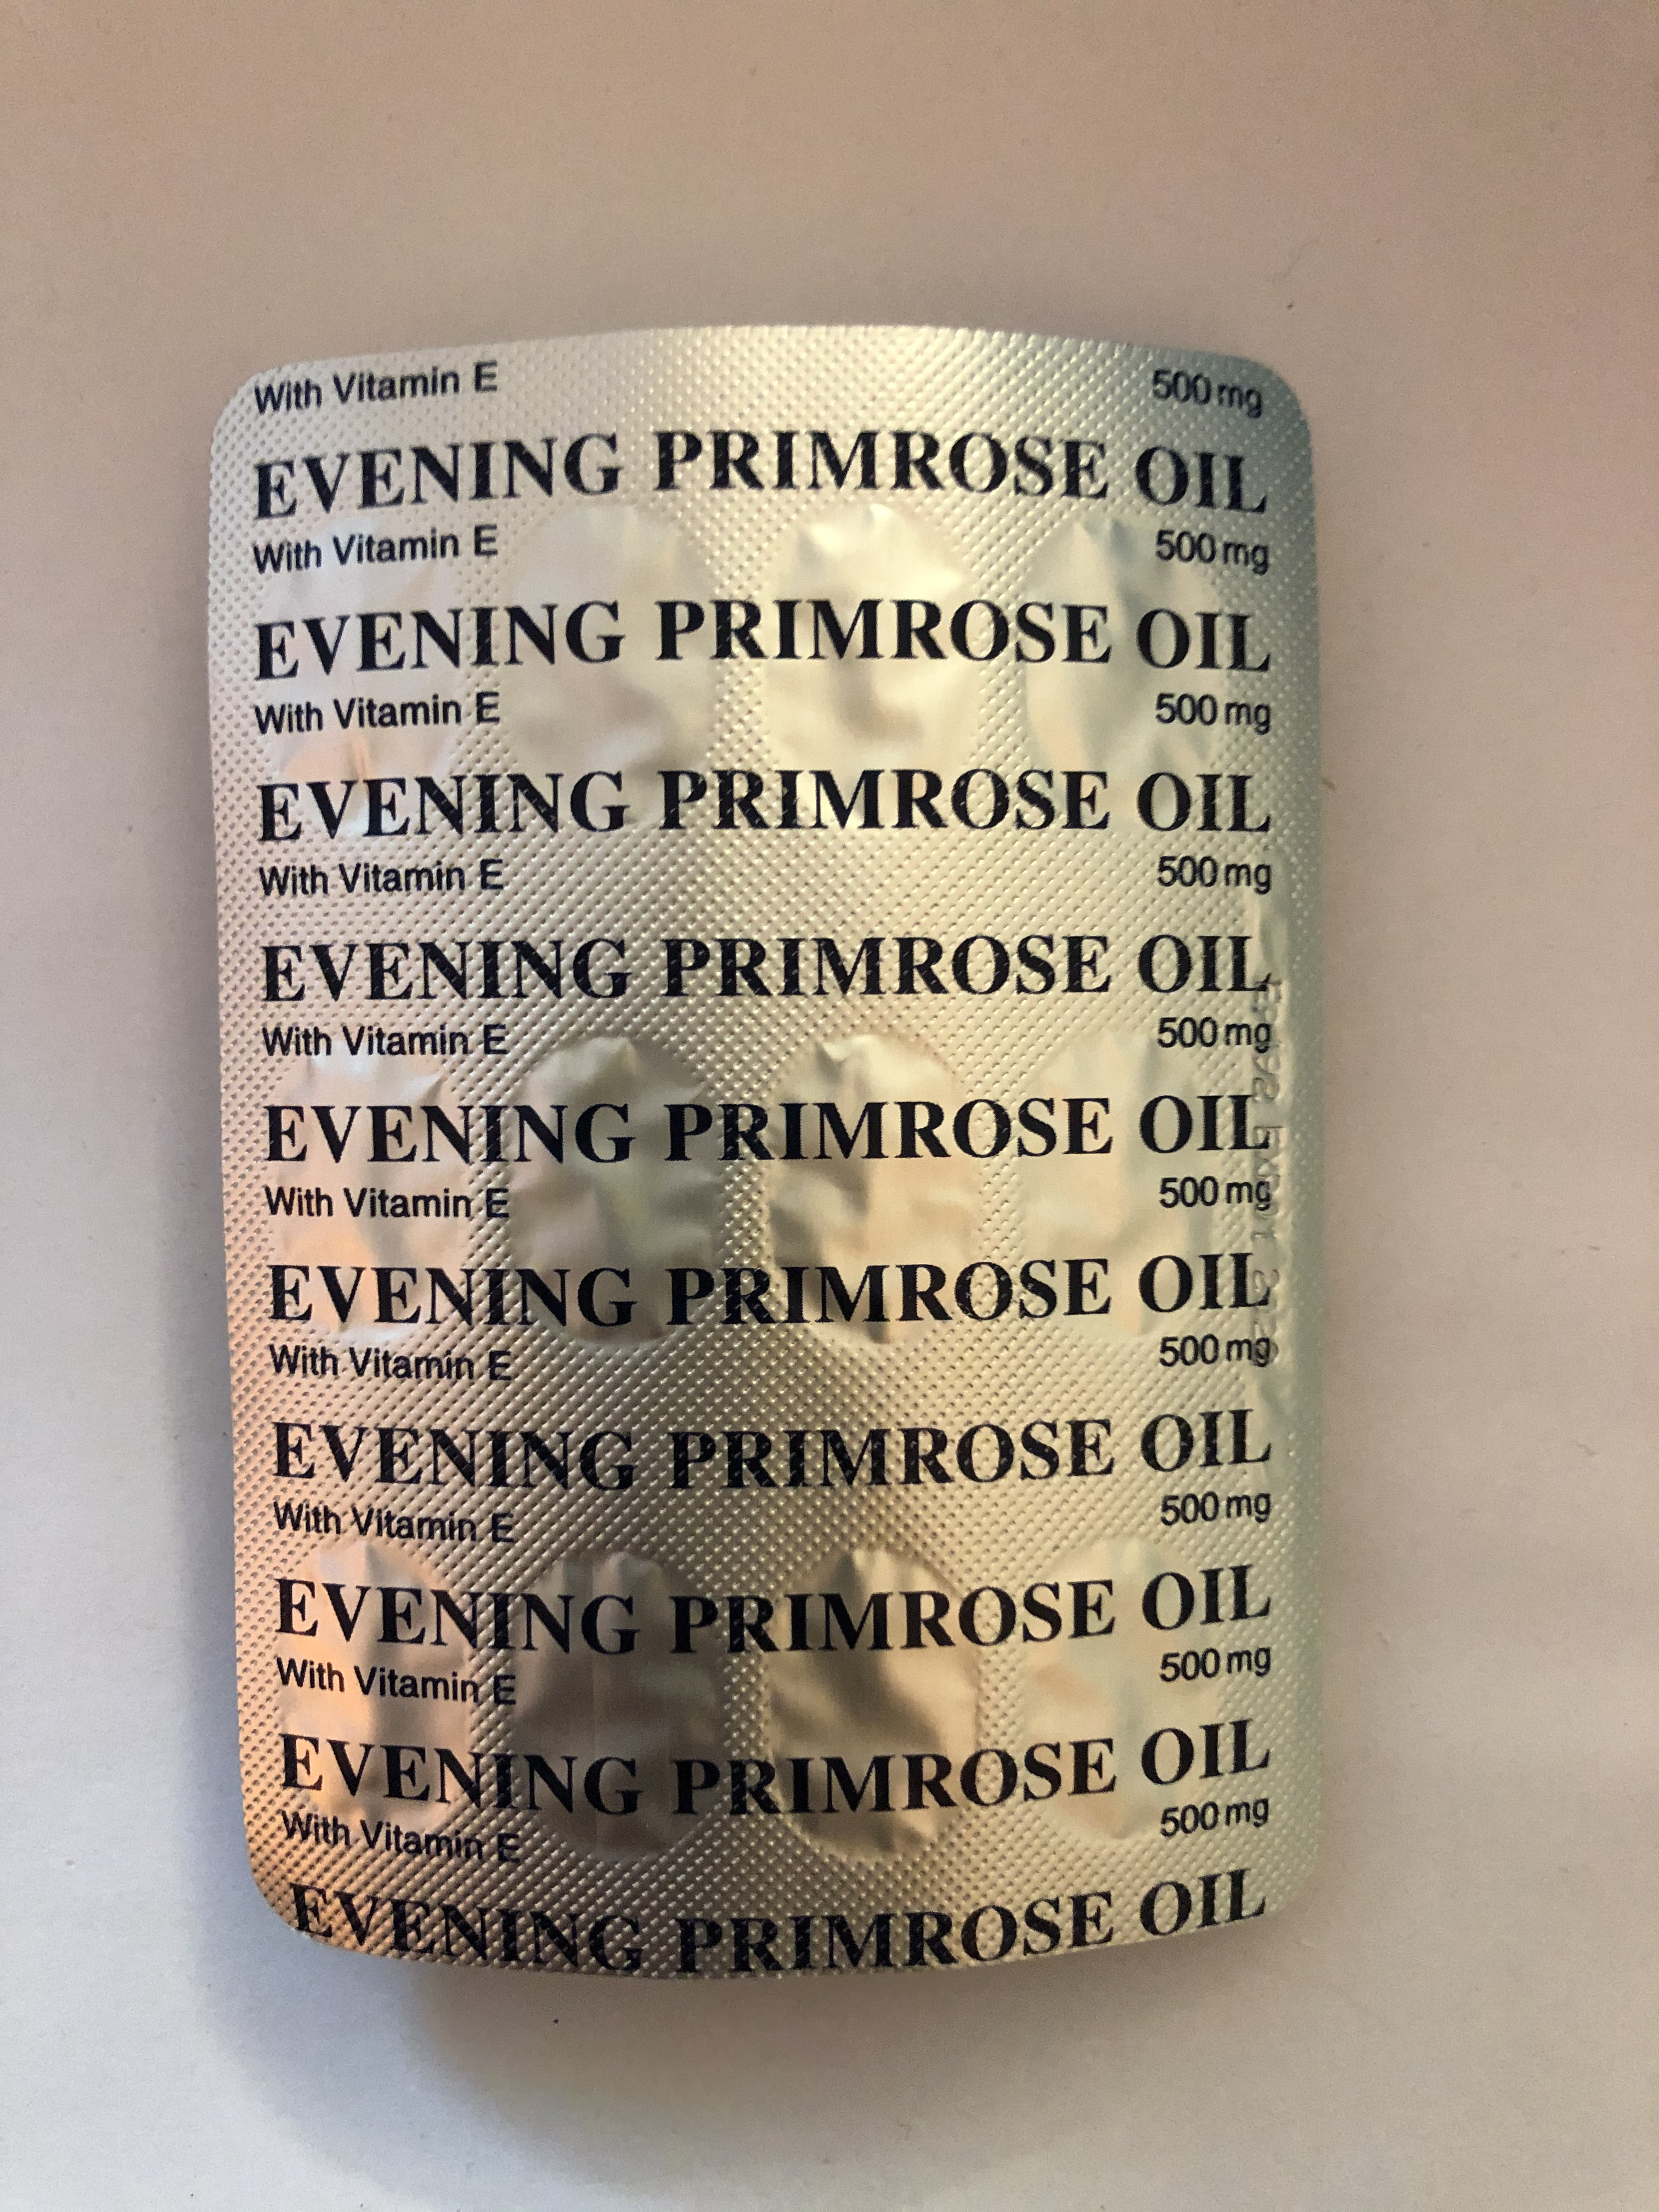Medicine name: (240, 756, 1300, 859)
